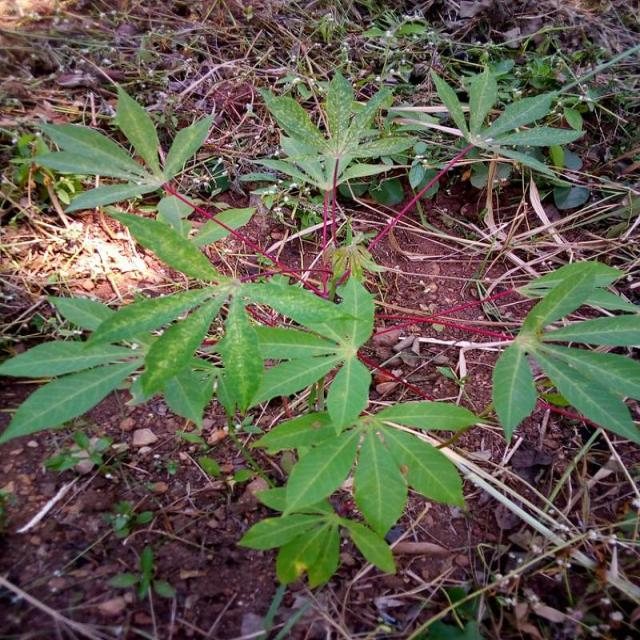cassava leaf: (490, 259, 640, 446)
